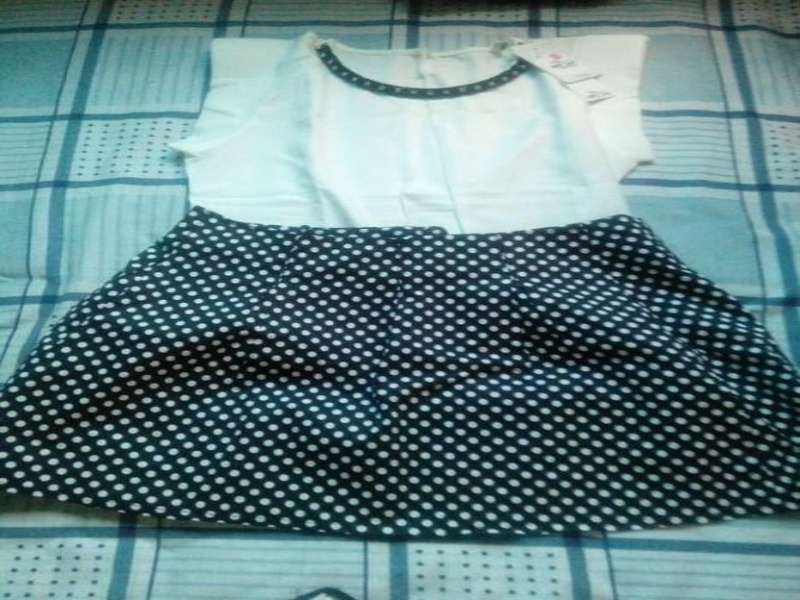skirt: (0, 202, 798, 543)
vest: (162, 30, 663, 257)
